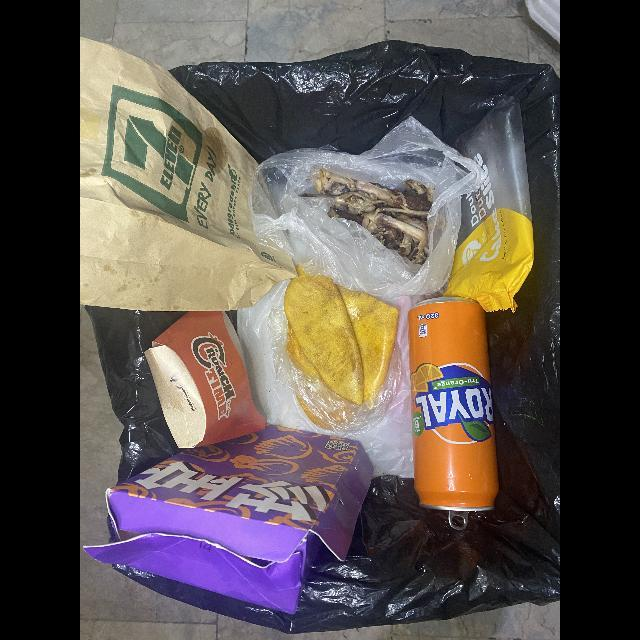aluminum: (408, 297, 499, 531)
cardboard: (83, 424, 374, 615), (144, 311, 266, 449)
food_wrapper: (443, 97, 534, 313)
left_over_food: (302, 168, 432, 265)
paper: (80, 37, 297, 314)
